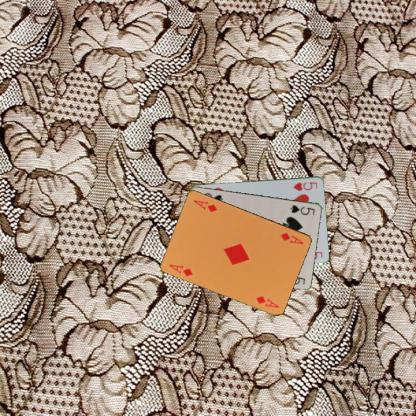5h: (291, 179, 318, 192)
5s: (288, 202, 316, 216)
Ad: (278, 230, 305, 246), (167, 262, 194, 277)
